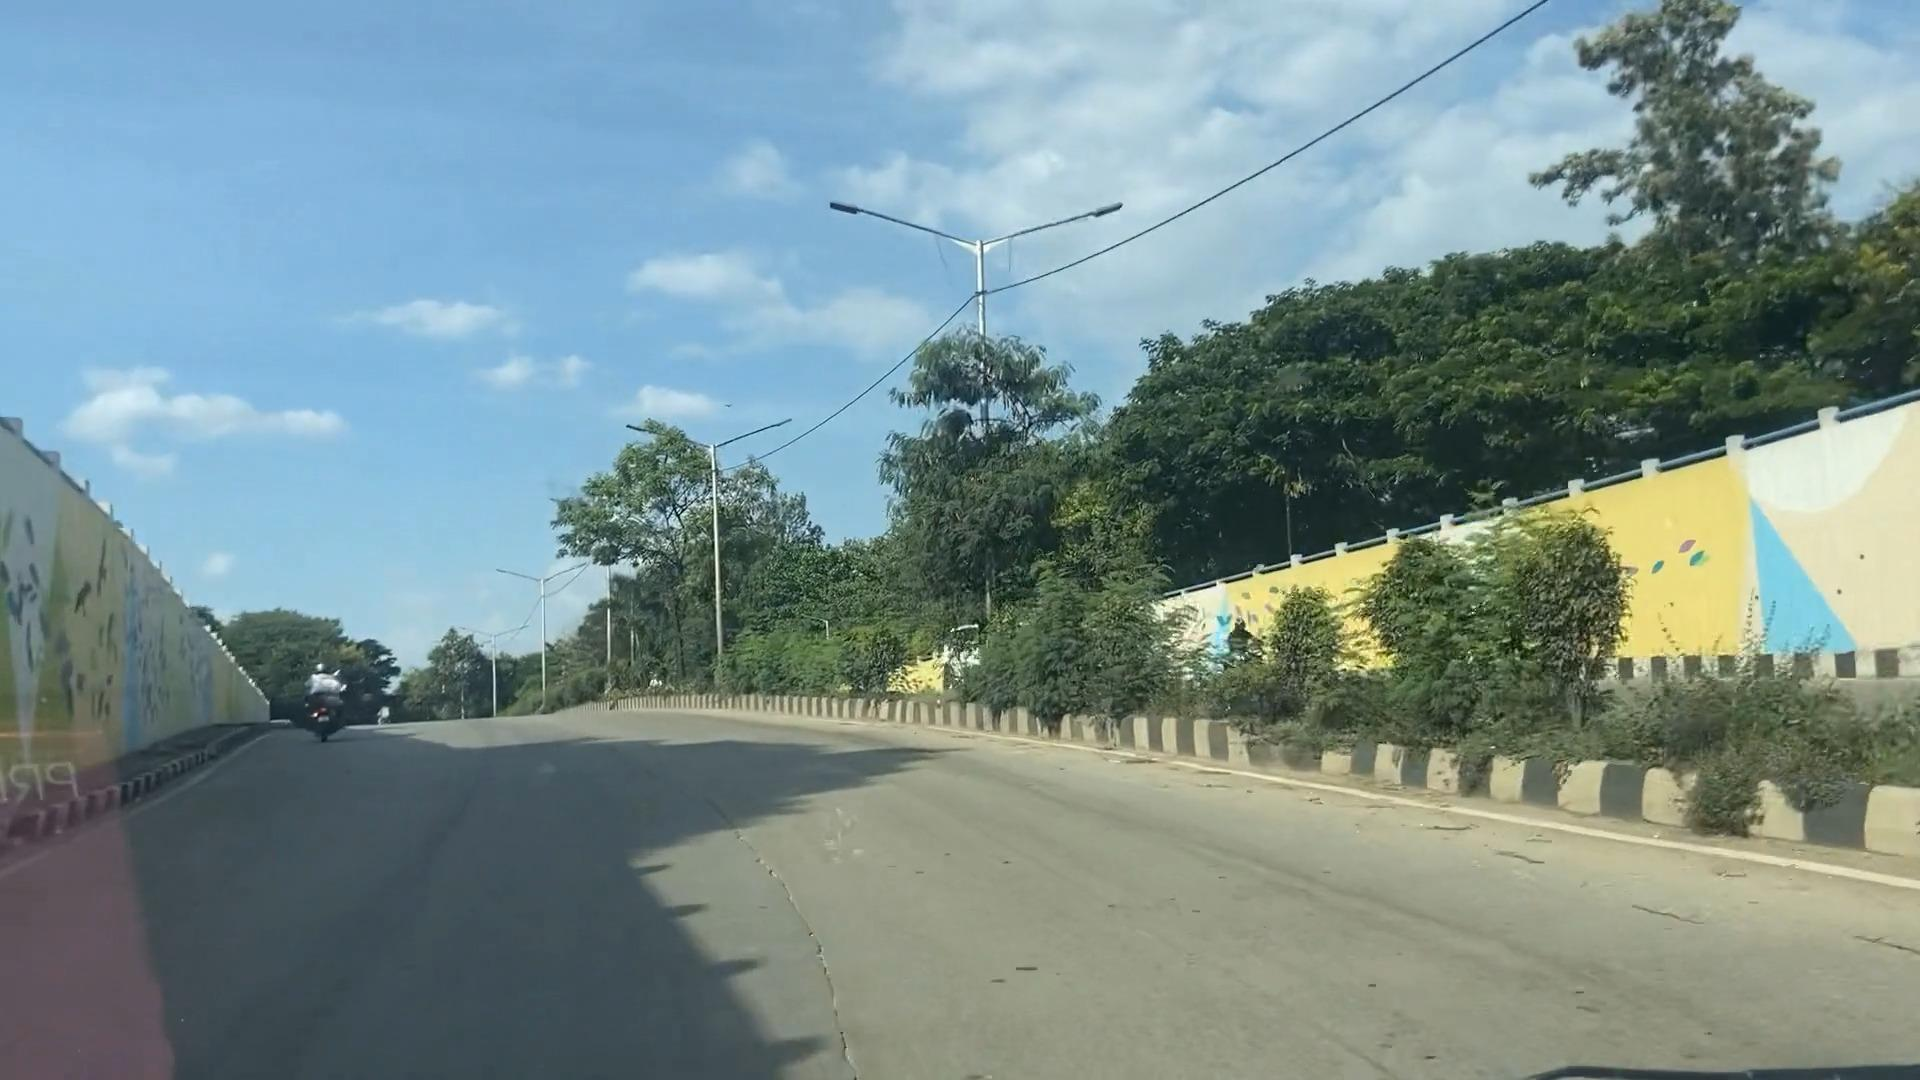RoadDamages: (774, 942, 887, 1080), (726, 834, 830, 931)
